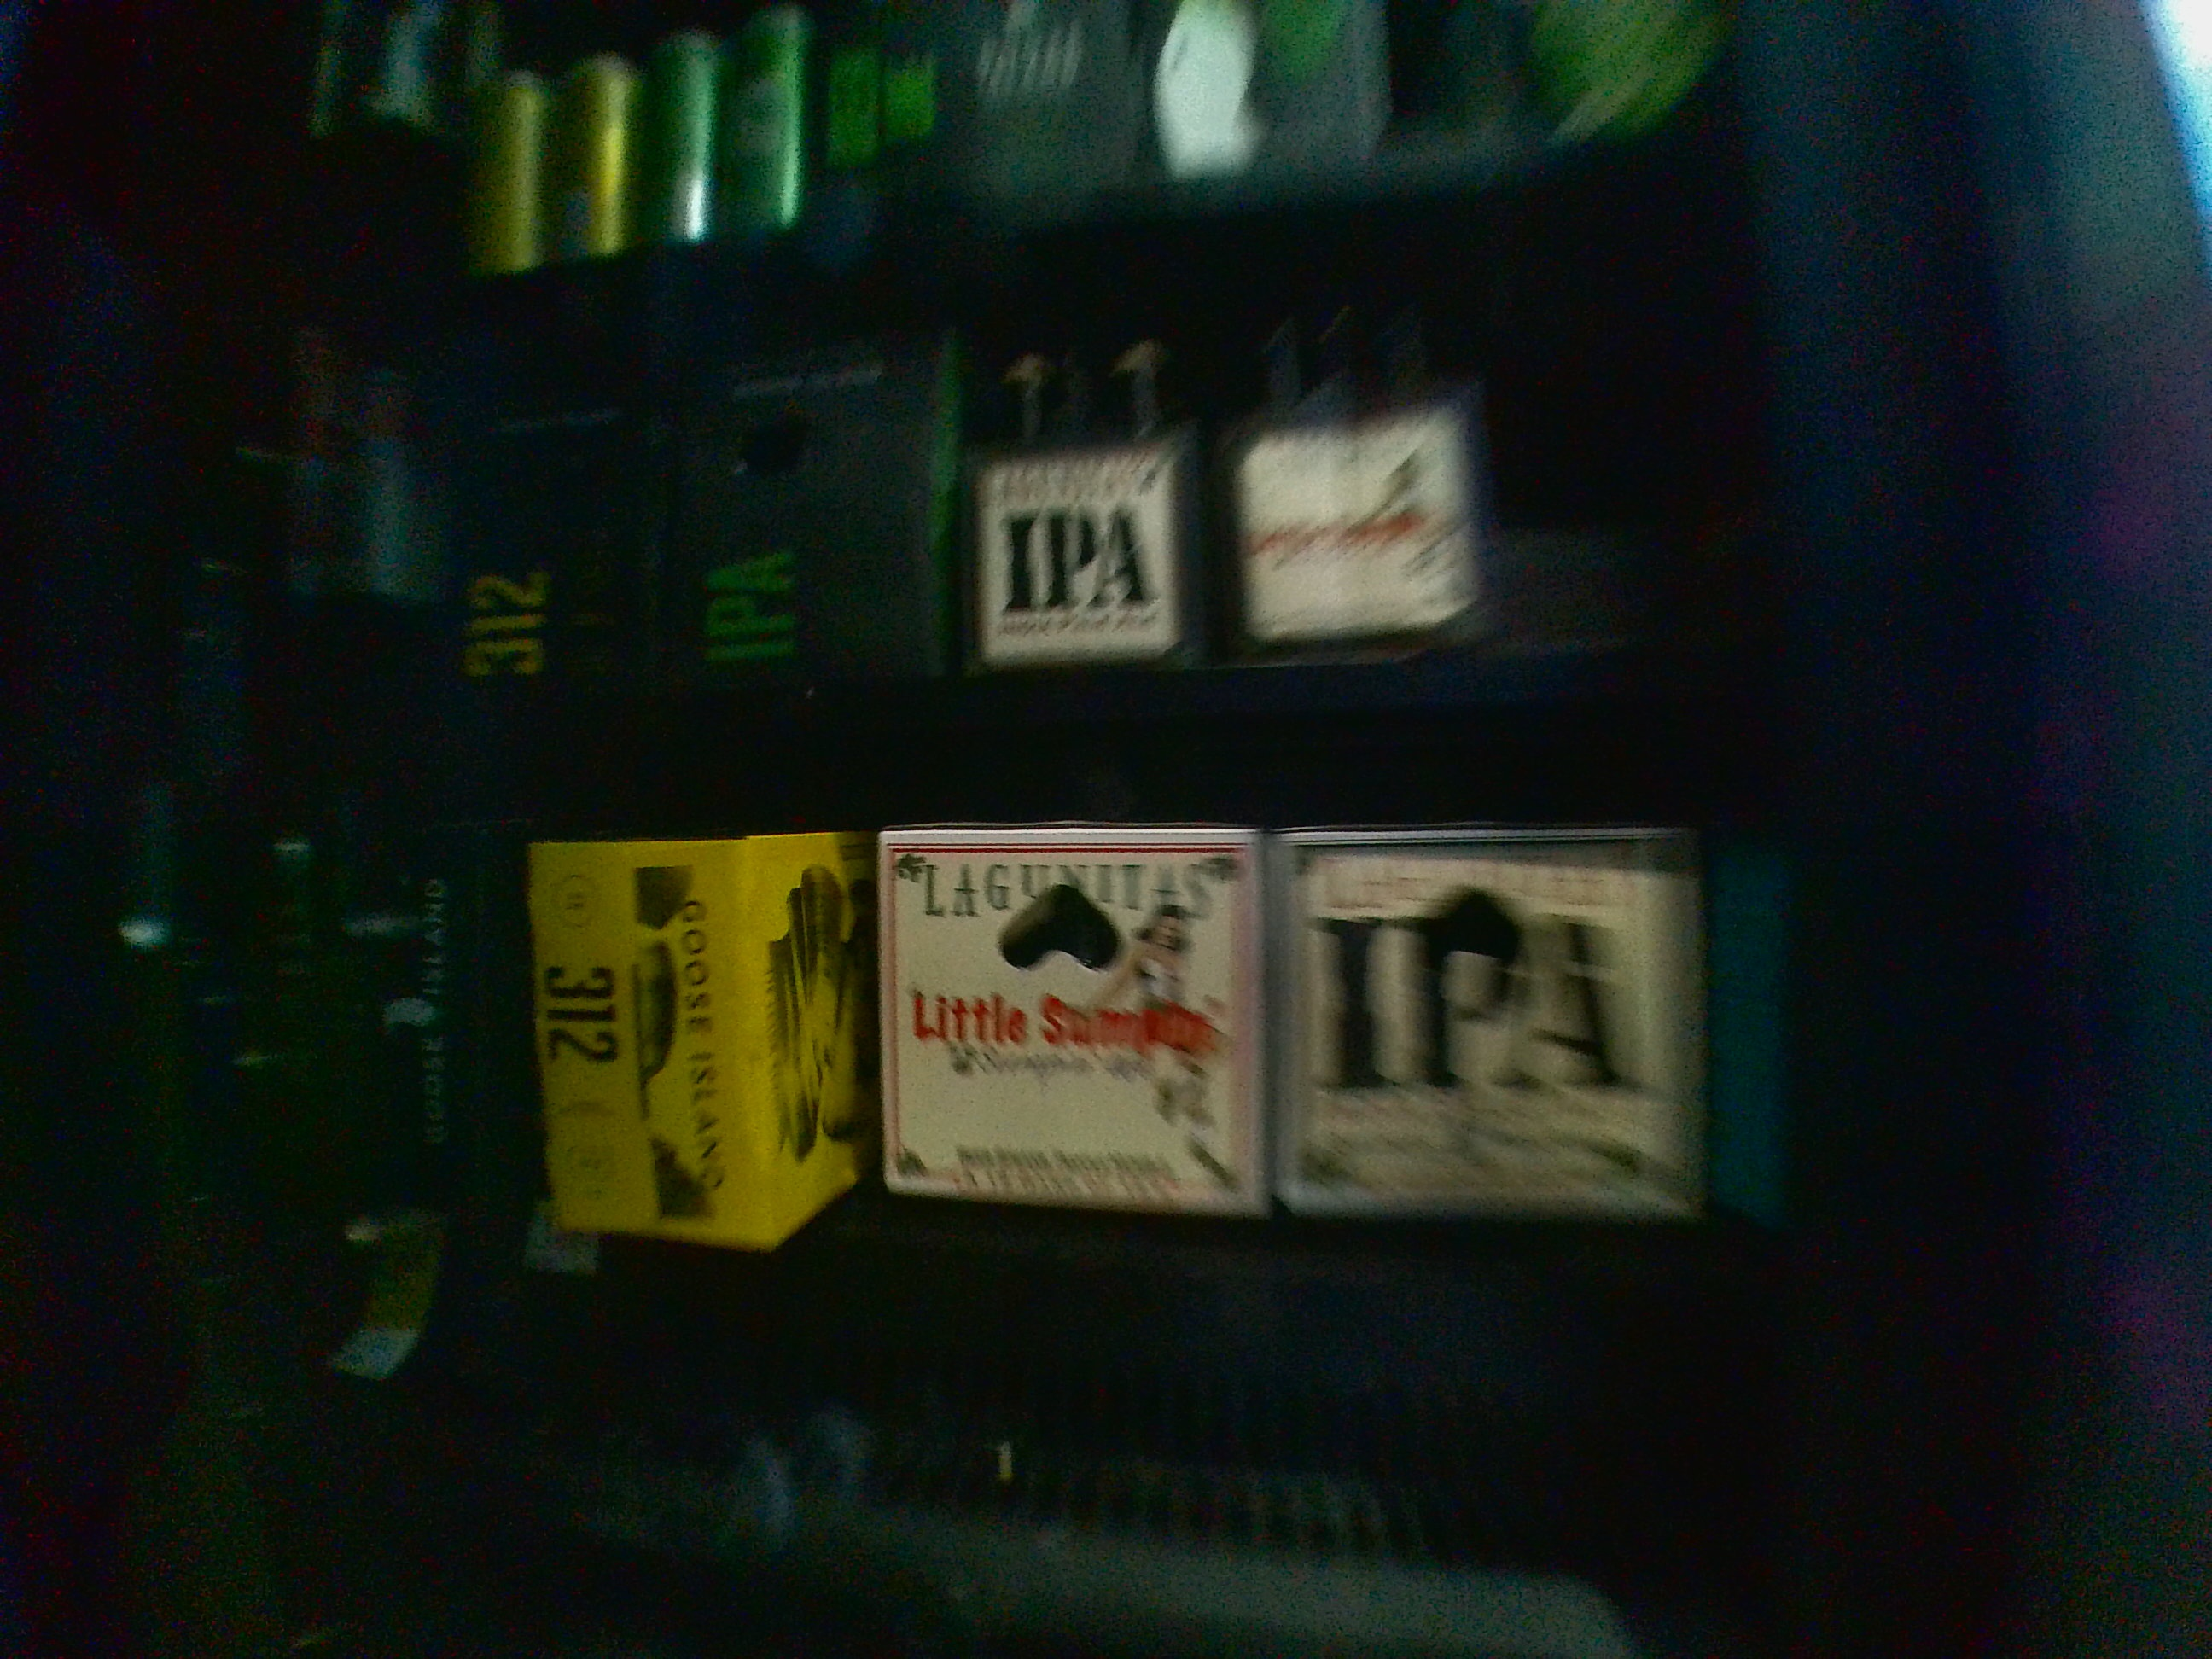shelf: (352, 807, 1747, 1389), (380, 305, 1730, 798)
